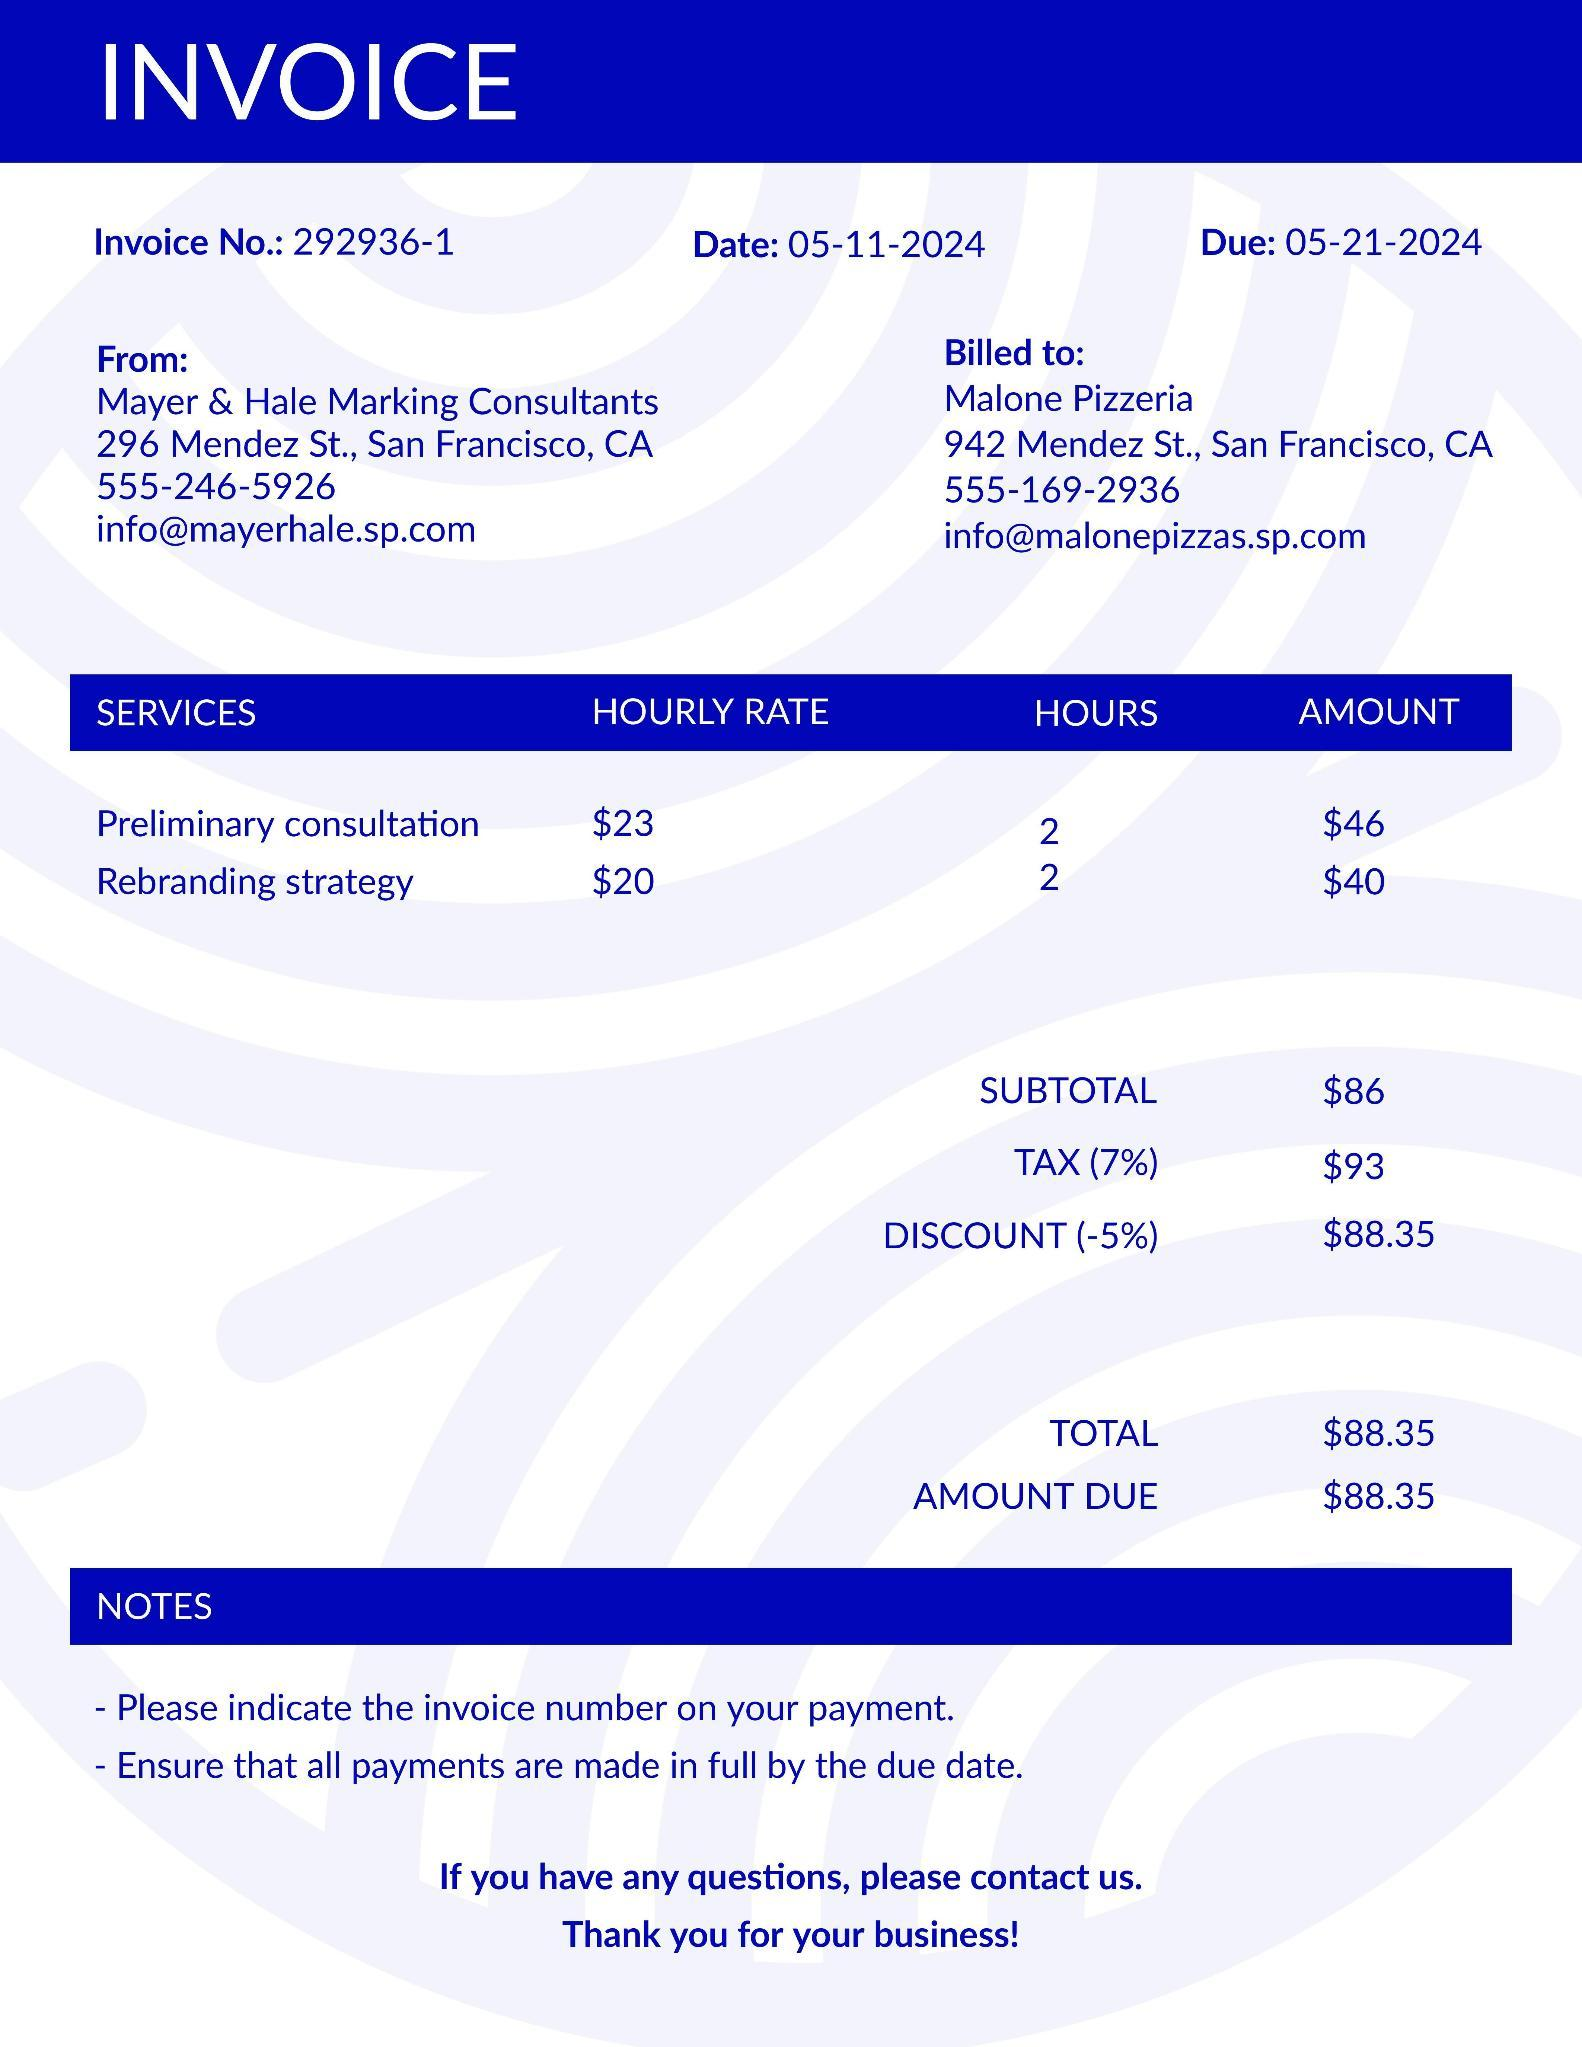ROI: (35, 665, 1502, 924), (70, 1562, 1040, 1801), (70, 341, 710, 608), (911, 322, 1517, 595), (843, 1033, 1472, 1284), (392, 1823, 1172, 1961), (861, 1397, 1491, 1532), (50, 2, 553, 146), (80, 193, 480, 282), (656, 199, 1034, 282), (1173, 203, 1507, 287)
